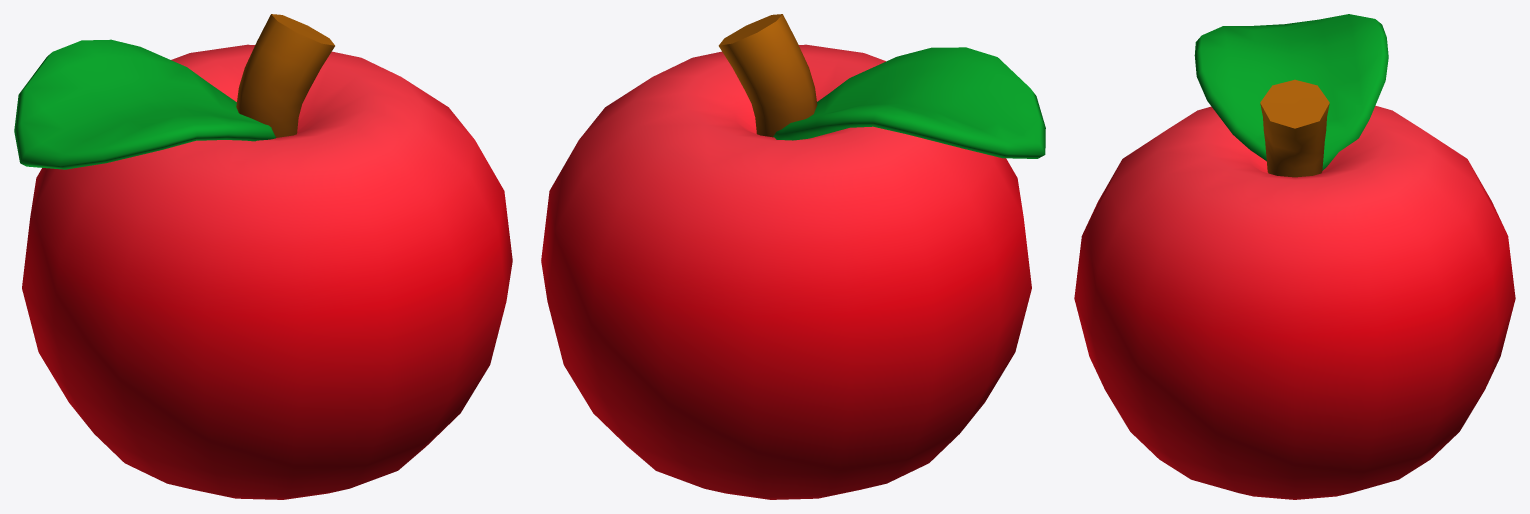
Rendered from Collectable_Apple_01.fbx.
3 views of the same model, side by side, from view 1: azimuth 30°, elevation 25°; view 2: azimuth 150°, elevation 25°; view 3: azimuth 270°, elevation 25° (orthographic). The views are drawn at different scales.
Parts seen in each view (by area): view 1: Collectable_Apple_01; view 2: Collectable_Apple_01; view 3: Collectable_Apple_01.
Part boxes in pixels (<box>): Collectable_Apple_01: <box>14,14,512,499</box>; Collectable_Apple_01: <box>541,14,1045,499</box>; Collectable_Apple_01: <box>1074,14,1515,499</box>.
Size of the model in its own units: 81.7 by 71.17 by 74.95.
